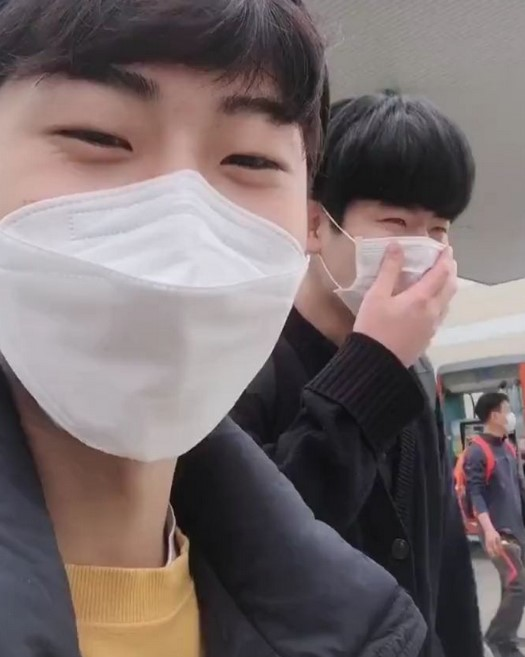face_with_mask: (3, 6, 327, 459), (323, 94, 475, 330), (473, 391, 517, 440)
